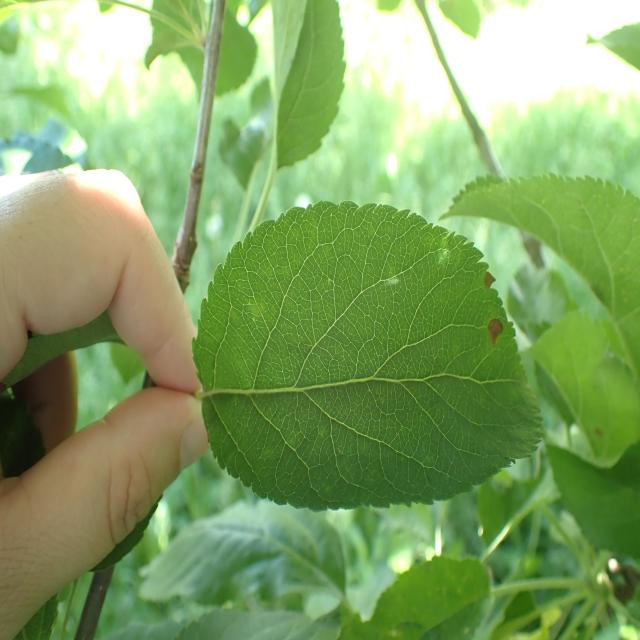Black Rot: (480, 304, 510, 360), (476, 246, 500, 305)
